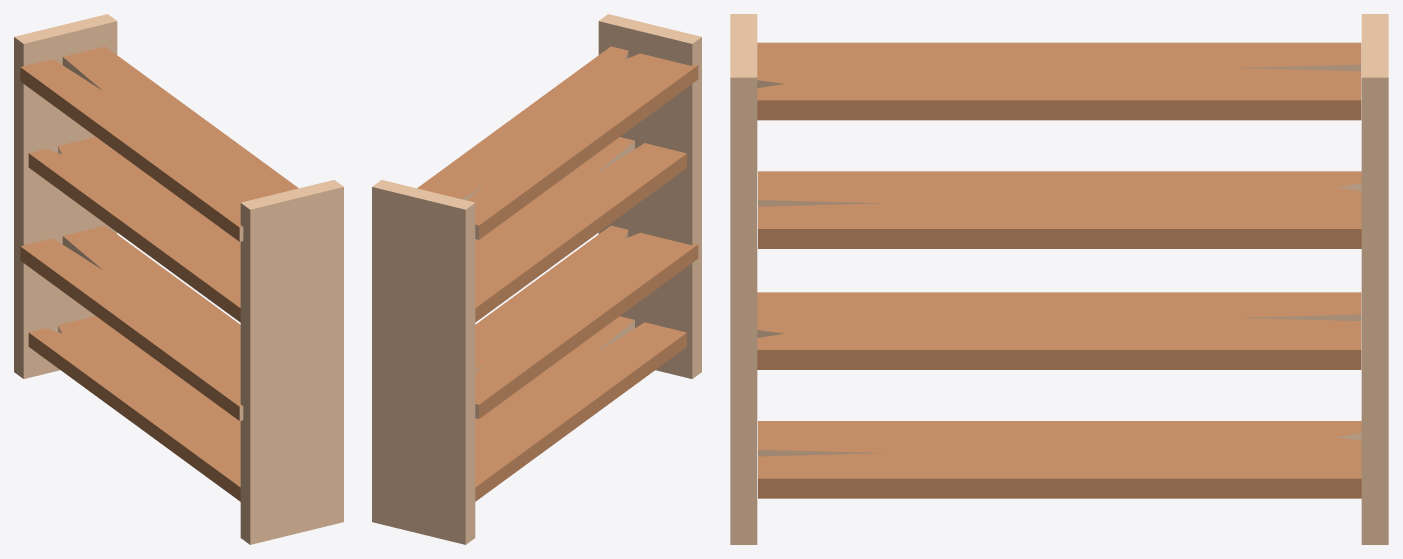
The model's file is regal2.fbx.
3 renders of one model, left to right at view 1: azimuth 30°, elevation 25°; view 2: azimuth 150°, elevation 25°; view 3: azimuth 270°, elevation 25°, orthographic. The views are drawn at different scales.
Visible parts, largest first — view 1: Regal; view 2: Regal; view 3: Regal.
Part boxes in pixels (box(x1,y1,x2,y2)): Regal: box(14, 14, 343, 544); Regal: box(372, 14, 701, 544); Regal: box(730, 14, 1388, 544).
Size of the model in its own units: 56.78 by 187 by 239.
